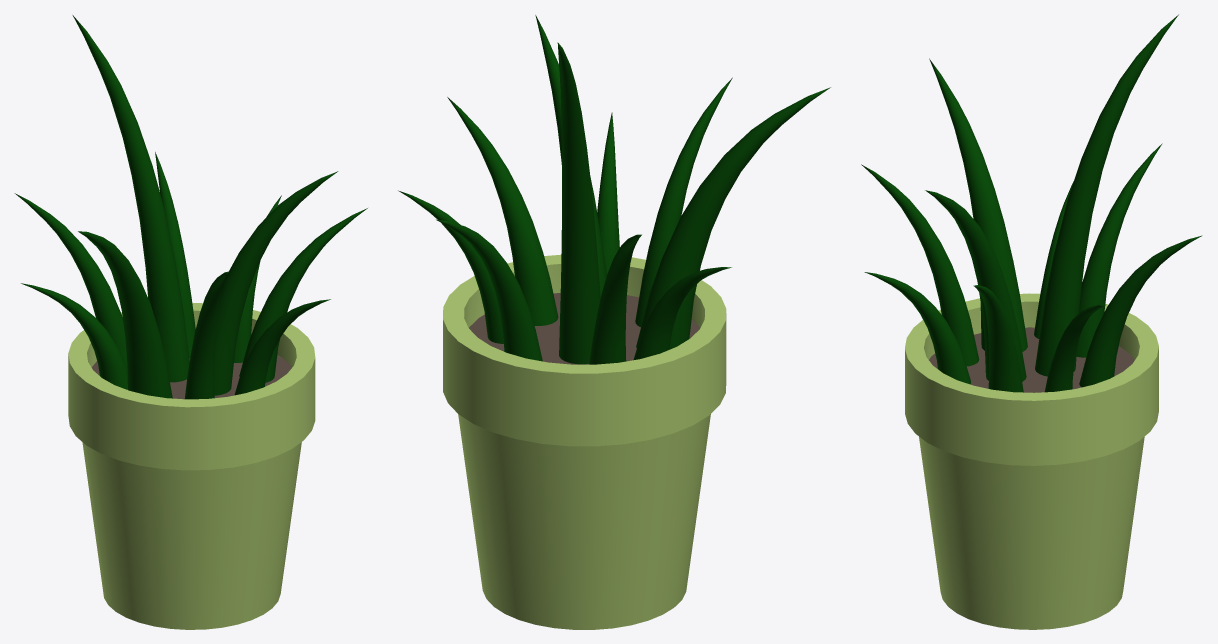
Rendered from Plante5_5.fbx.
3 views of the same model, side by side, from view 1: azimuth 30°, elevation 25°; view 2: azimuth 150°, elevation 25°; view 3: azimuth 270°, elevation 25° (orthographic). The views are drawn at different scales.
Parts seen in each view (by area): view 1: pCylinder723, pCone18, pCone17, pCone15, pCone10, pCone12, pCone14, pCone19, pCone16, pCone11, pCone13, pCylinder722; view 2: pCylinder723, pCone18, pCone17, pCone12, pCone14, pCone11, pCone10, pCone19, pCylinder722, pCone16, pCone13, pCone15; view 3: pCylinder723, pCone18, pCone17, pCone14, pCone10, pCone11, pCone15, pCone12, pCone16, pCylinder722, pCone13, pCone19.
Part boxes in pixels (<box>): pCylinder723: <box>68,303,315,629</box>; pCone18: <box>72,15,189,382</box>; pCone17: <box>78,231,172,398</box>; pCone15: <box>214,171,338,395</box>; pCone10: <box>14,193,127,370</box>; pCone12: <box>239,208,367,382</box>; pCone14: <box>184,271,229,399</box>; pCone19: <box>21,283,127,389</box>; pCone16: <box>234,299,330,395</box>; pCone11: <box>155,152,195,357</box>; pCone13: <box>234,195,281,362</box>; pCylinder722: <box>91,355,291,399</box>; pCylinder723: <box>443,254,726,629</box>; pCone18: <box>557,42,600,364</box>; pCone17: <box>636,87,830,349</box>; pCone12: <box>447,97,558,325</box>; pCone14: <box>635,77,732,327</box>; pCone11: <box>436,219,542,361</box>; pCone10: <box>589,234,641,364</box>; pCone19: <box>633,267,731,360</box>; pCylinder722: <box>469,293,700,364</box>; pCone16: <box>597,112,619,274</box>; pCone13: <box>398,190,503,343</box>; pCone15: <box>535,15,606,297</box>; pCylinder723: <box>905,293,1158,629</box>; pCone18: <box>1035,14,1178,376</box>; pCone17: <box>929,58,1027,351</box>; pCone14: <box>861,164,979,366</box>; pCone10: <box>1076,143,1162,357</box>; pCone11: <box>1079,235,1202,387</box>; pCone15: <box>925,190,1026,381</box>; pCone12: <box>973,285,1023,392</box>; pCone16: <box>864,272,970,384</box>; pCylinder722: <box>929,327,1134,392</box>; pCone13: <box>1044,304,1105,392</box>; pCone19: <box>1034,181,1073,338</box>.
Bounding box in the file's own units: 16.39 × 26.9 × 15.12.
